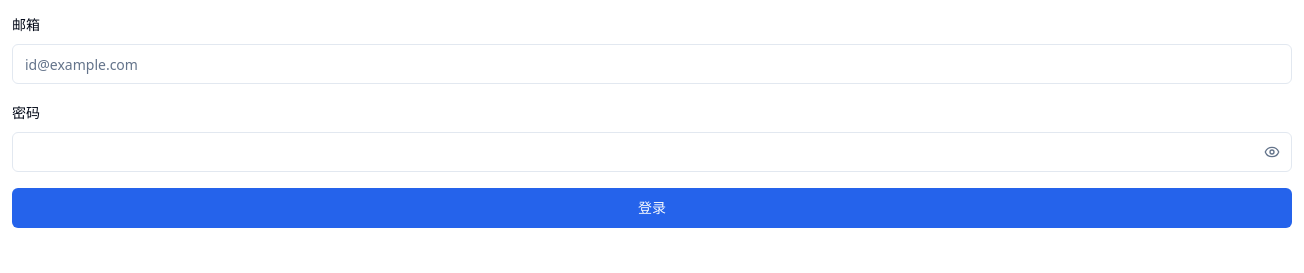
Test case: SigninForm Component › should display number of characters invalid error
Type "ad" into the field labelled "邮箱" at (652, 64), box [12,44,1292,84]
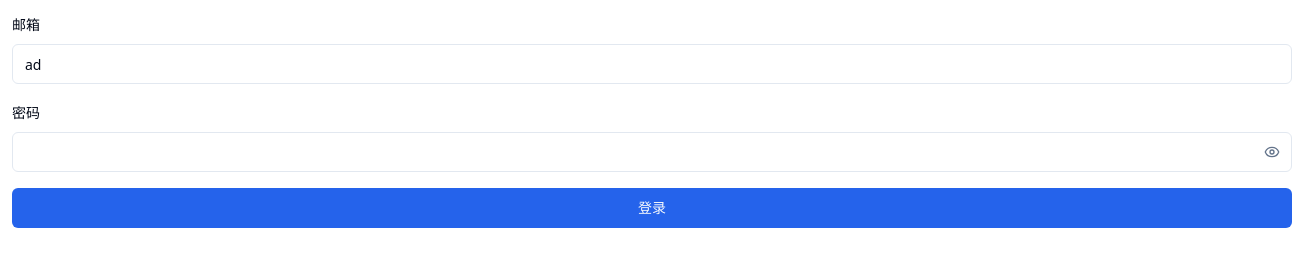
Click the button "登录" at (652, 208), box [12,188,1292,228]
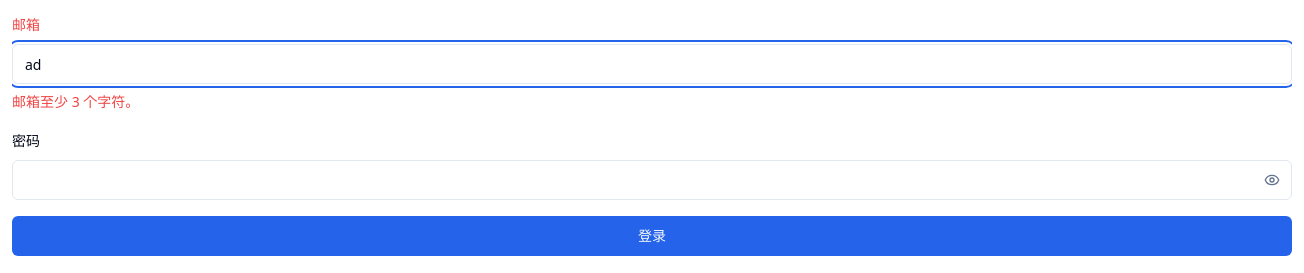
expect the text "邮箱至少 3 个字符。" is shown: met, box [12,92,139,111]
